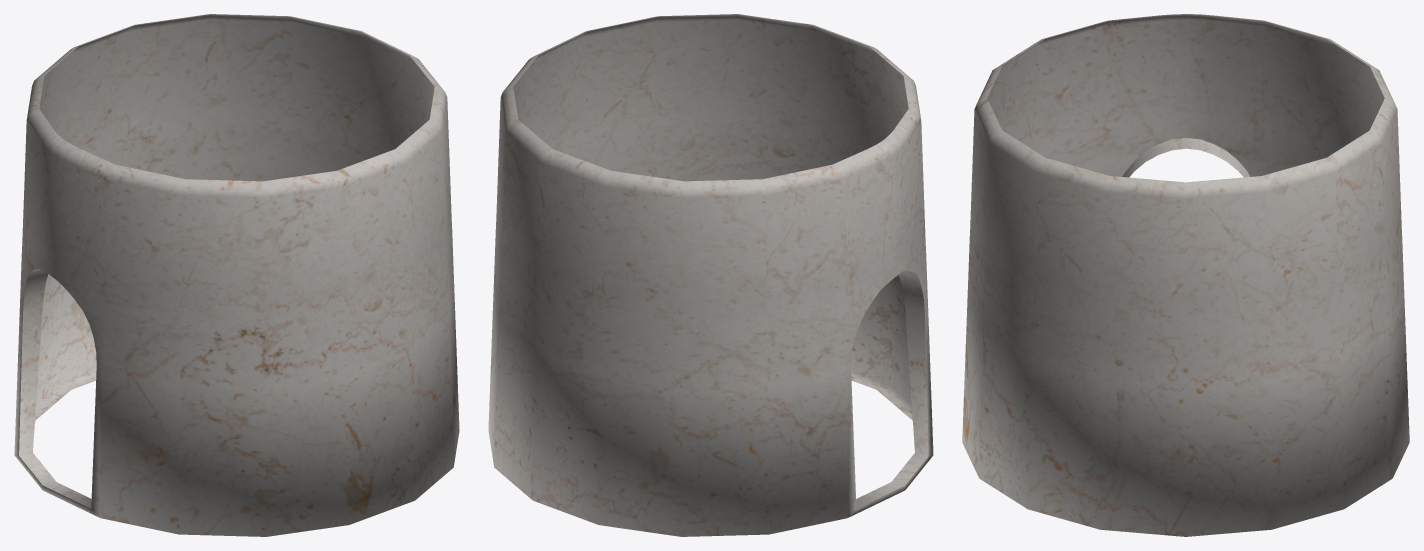
Rendered from Bottom.fbx.
The picture shows the model from 3 angles, left to right: view 1: azimuth 30°, elevation 25°; view 2: azimuth 150°, elevation 25°; view 3: azimuth 270°, elevation 25°; orthographic projection.
Visible parts, largest first — view 1: Bottom_Baked; view 2: Bottom_Baked; view 3: Bottom_Baked.
Boxes of the visible parts, x1,y1,x2,y2 form: Bottom_Baked: (14, 14, 459, 536); Bottom_Baked: (488, 14, 933, 536); Bottom_Baked: (962, 14, 1409, 536).
Bounding box in the file's own units: 472 × 401 × 472.
